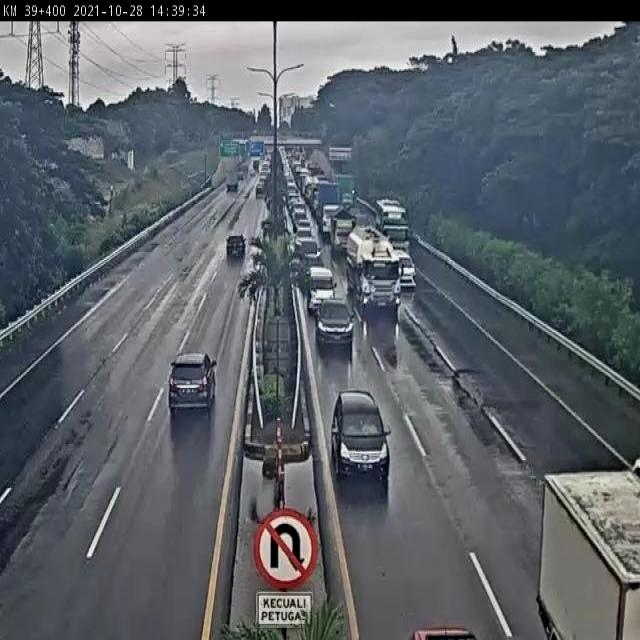Car: (325, 372, 397, 492), (167, 350, 218, 415), (314, 297, 356, 351), (306, 266, 336, 314), (394, 250, 417, 292), (226, 234, 246, 258)
Truck: (523, 469, 640, 640), (343, 220, 403, 315)
